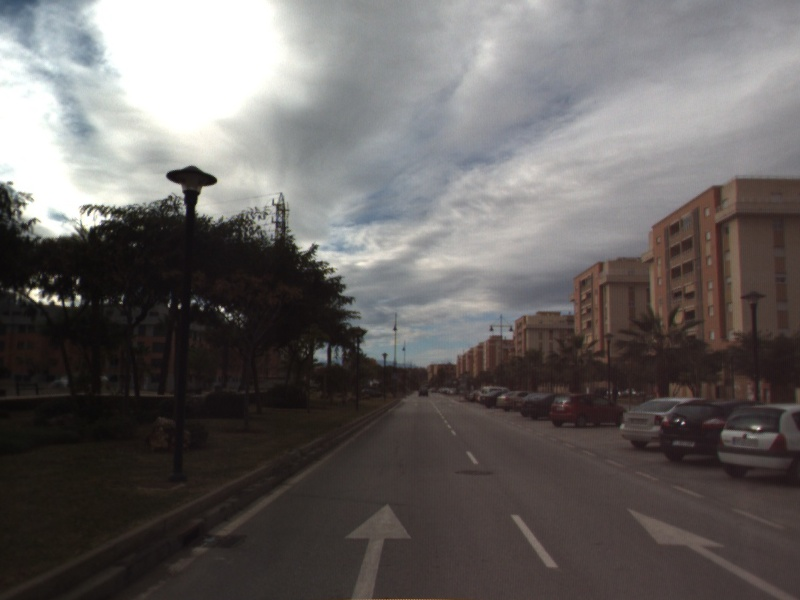STRAIGHT: (626, 507, 800, 600), (343, 501, 414, 600)
